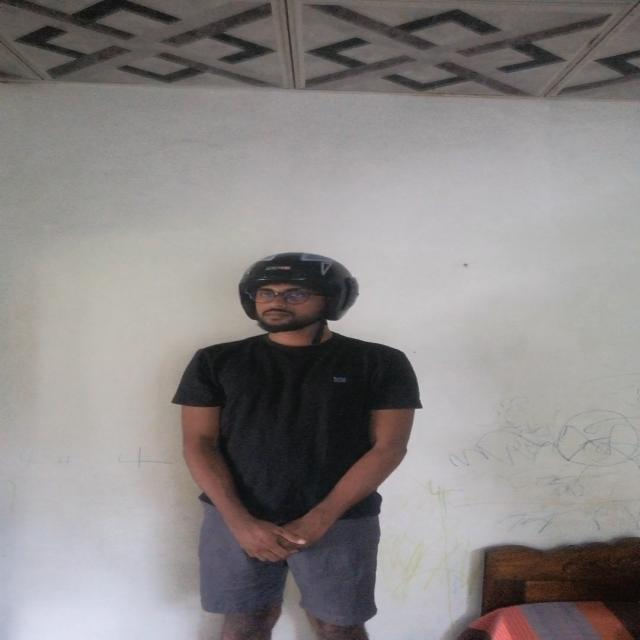Helmet_Wearer: (225, 248, 363, 340)
Person: (158, 247, 420, 633)
